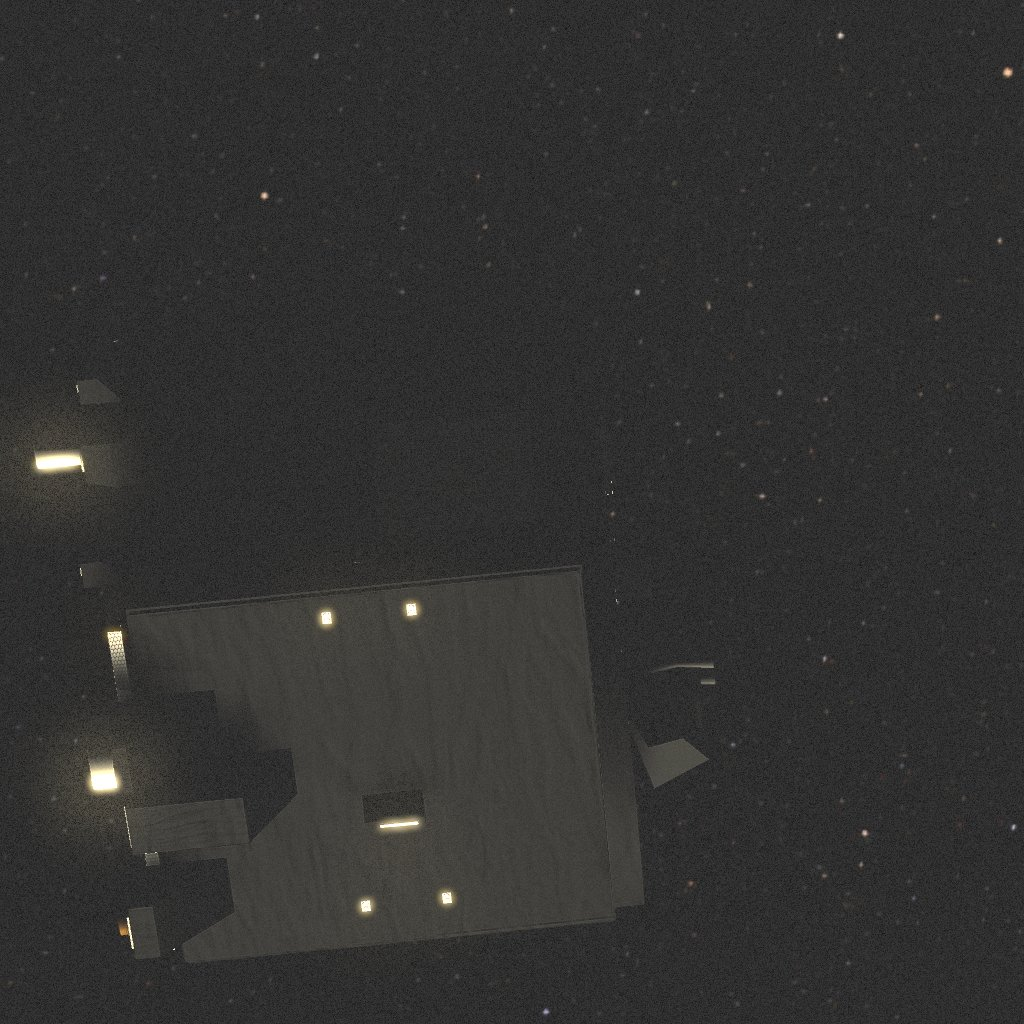proba_3_ocs: (34, 270, 715, 963)
